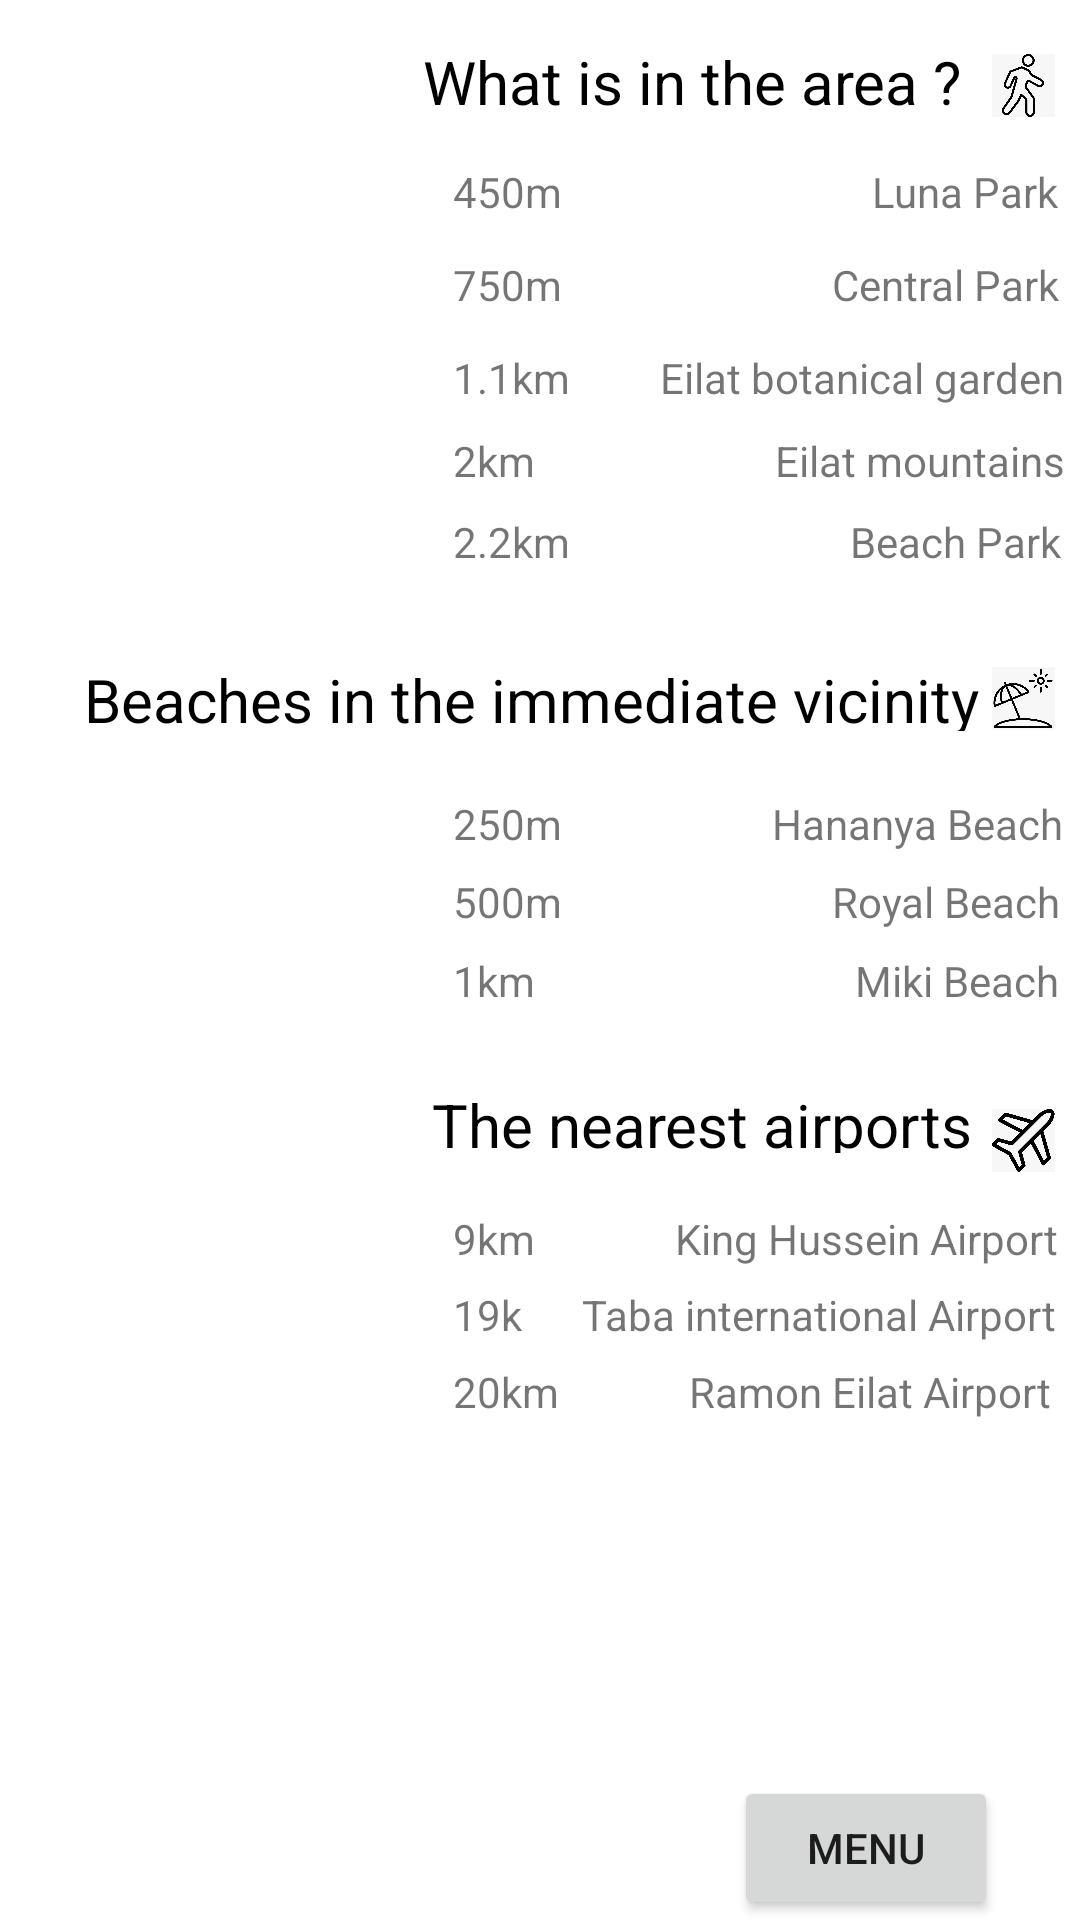

Where to tap for icons on this 1080×1920 app screen, as (x=x, y=y):
baech: (x=1023, y=698)
man: (x=1023, y=85)
